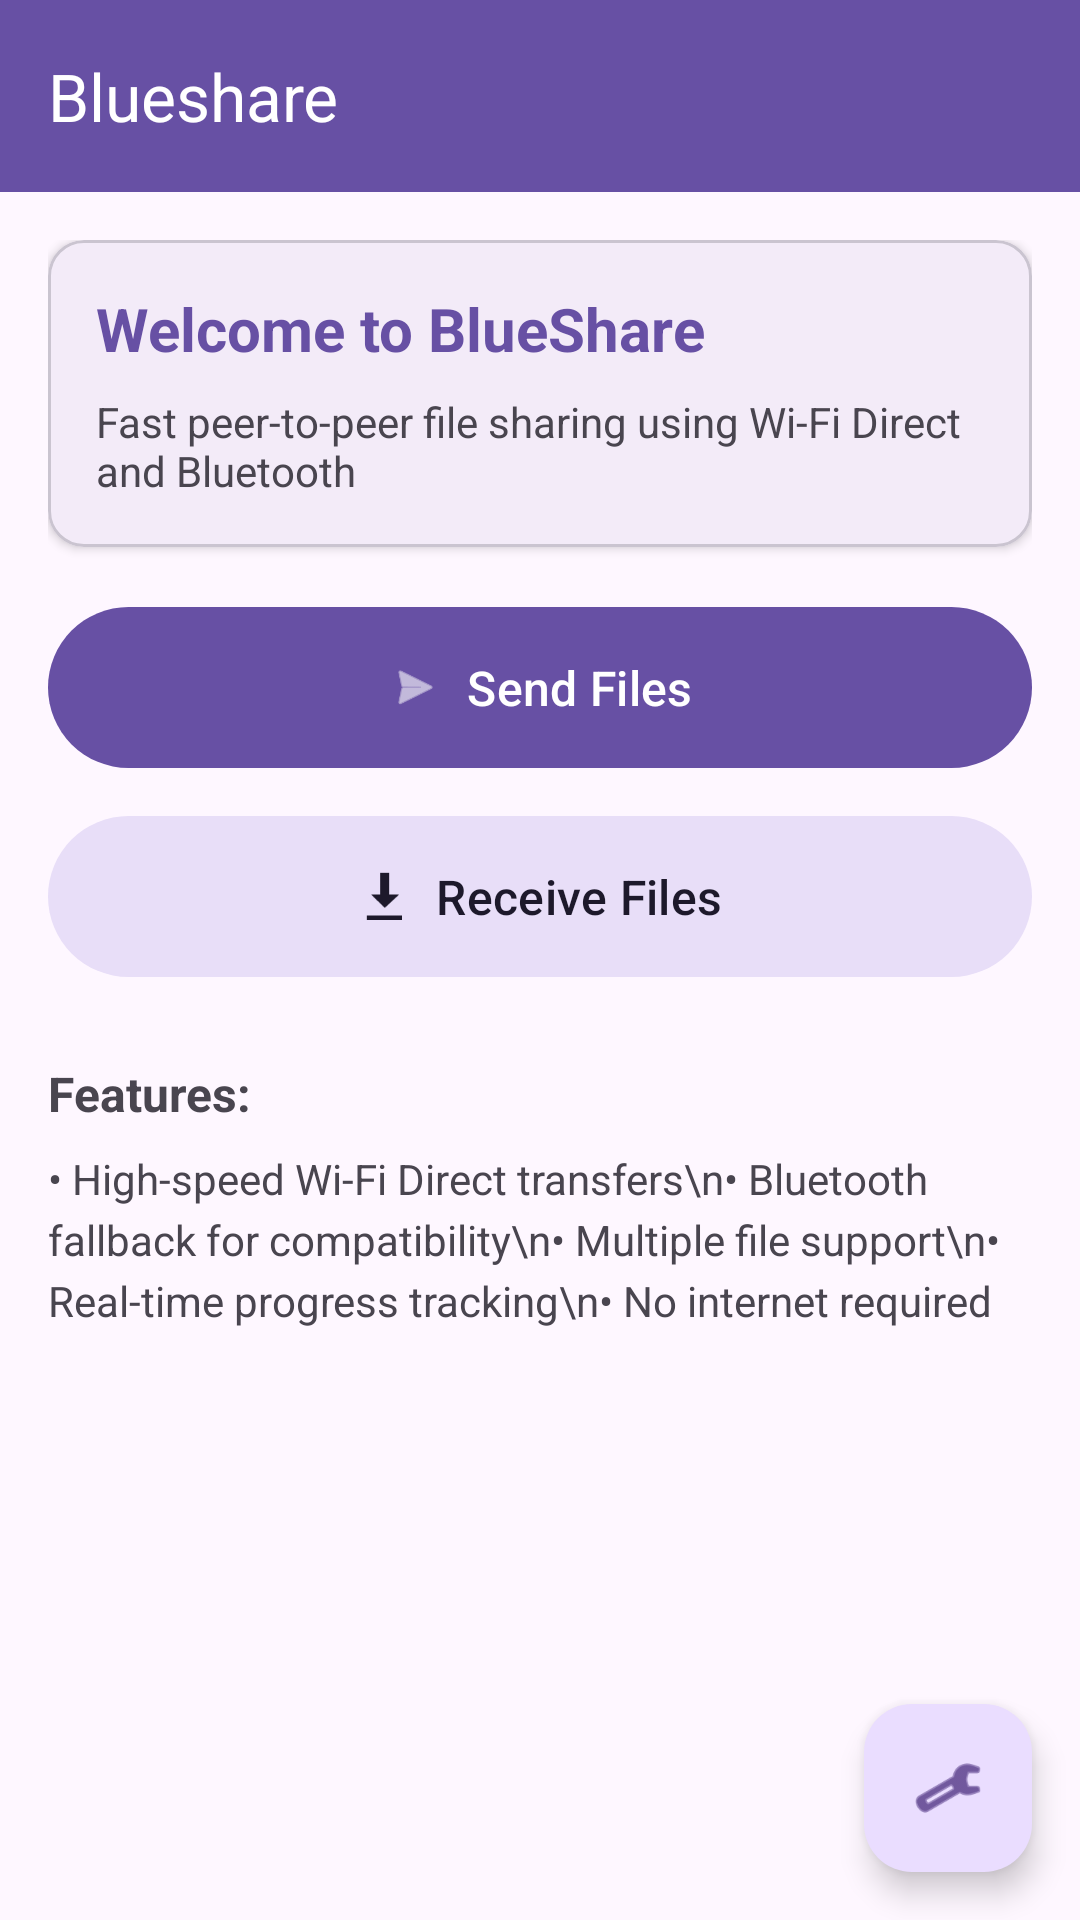

Screen size 1080x1920. Icon name, then its center in pixels as (x,y):
Settings: (948,1788)
